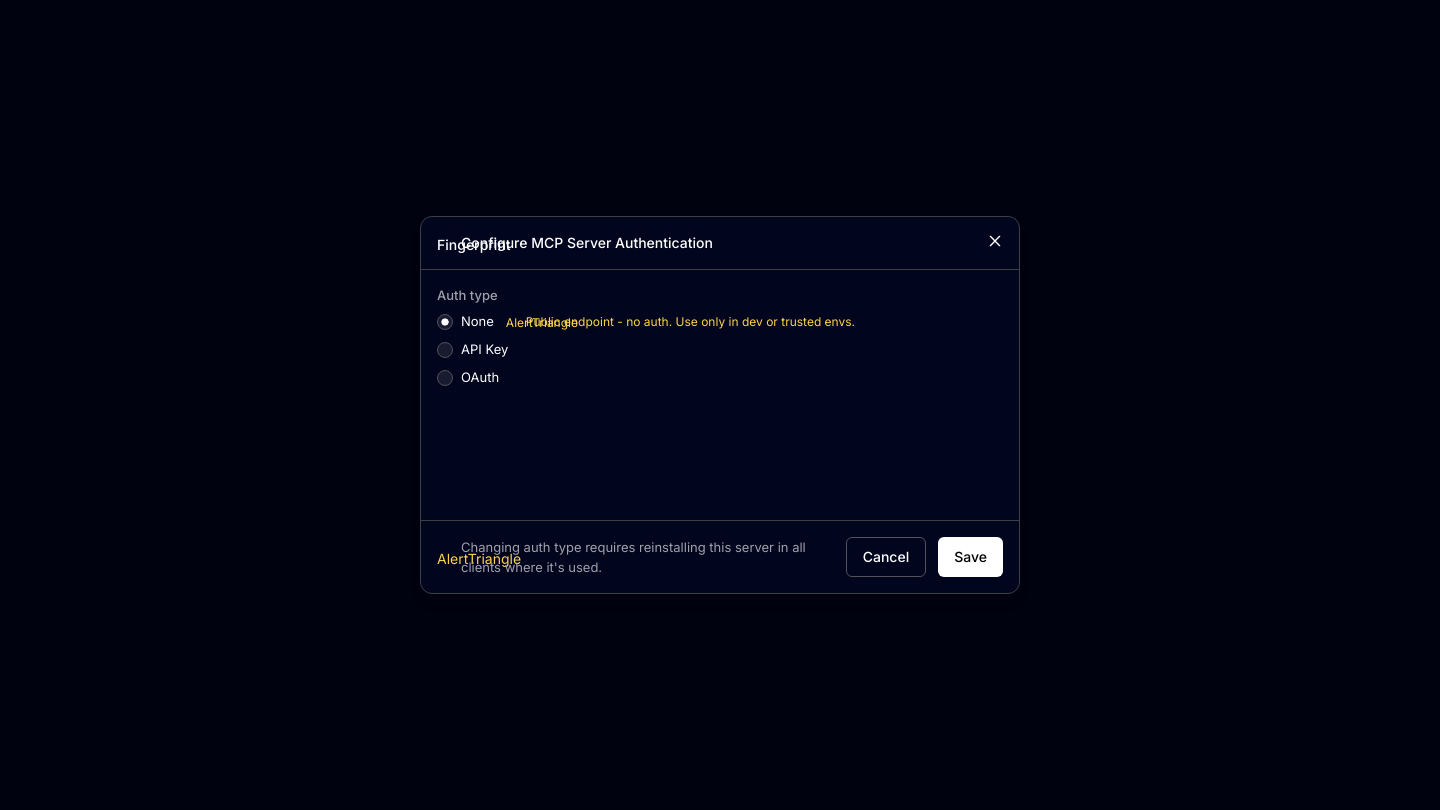
Test: AuthModal OAuth Port Synchronization › should preserve existing Server URL if manually edited after port change
The width and height of the screenshot is (1440, 810).
Select OAuth auth type
Click the radio button named "OAuth" next to "OAuth".
click(445, 378)  # box [437,370,453,386]
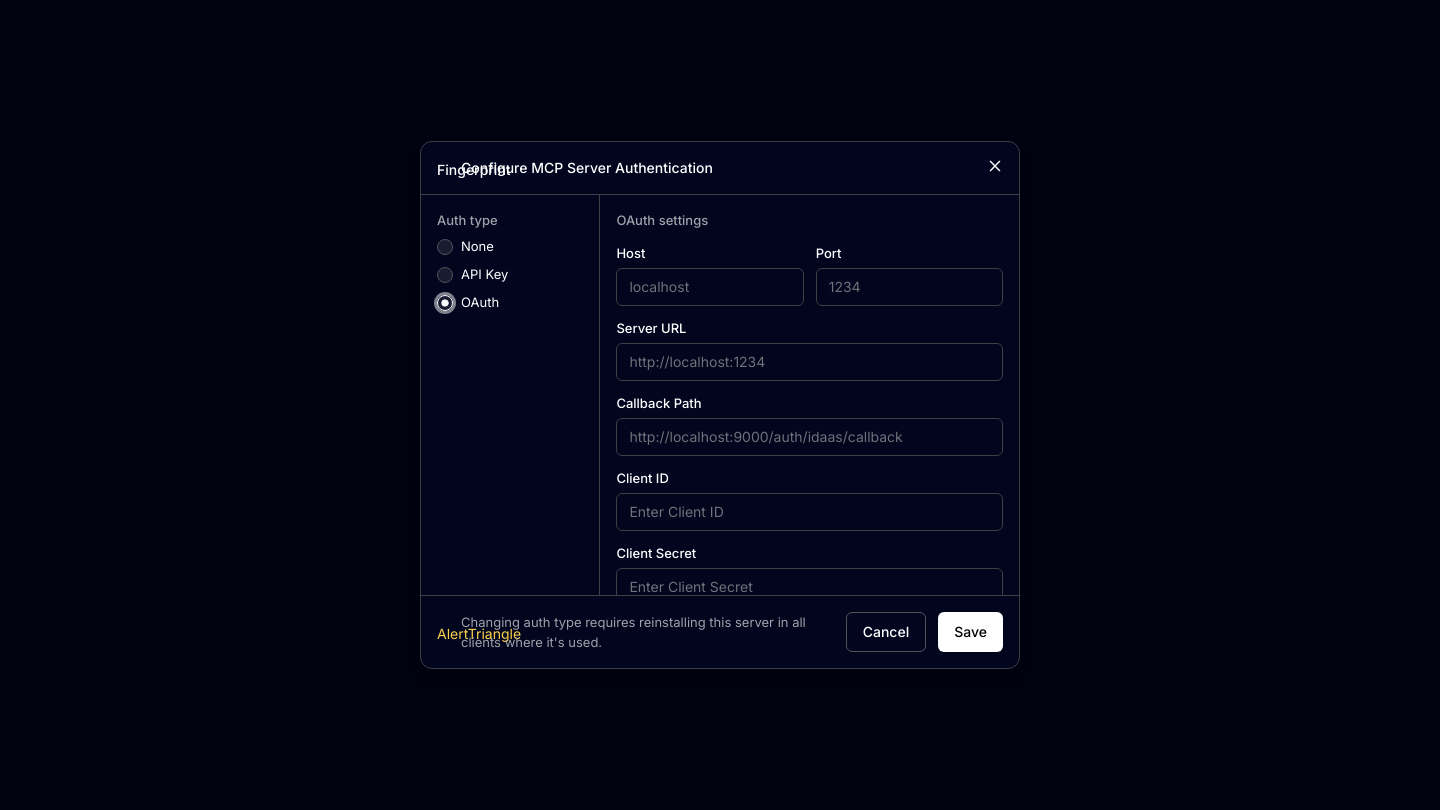
Set port (auto-syncs Server URL)
Type "9001" into the field labelled "Port".
click(909, 286); type("9001")  # box [816,268,1003,306]
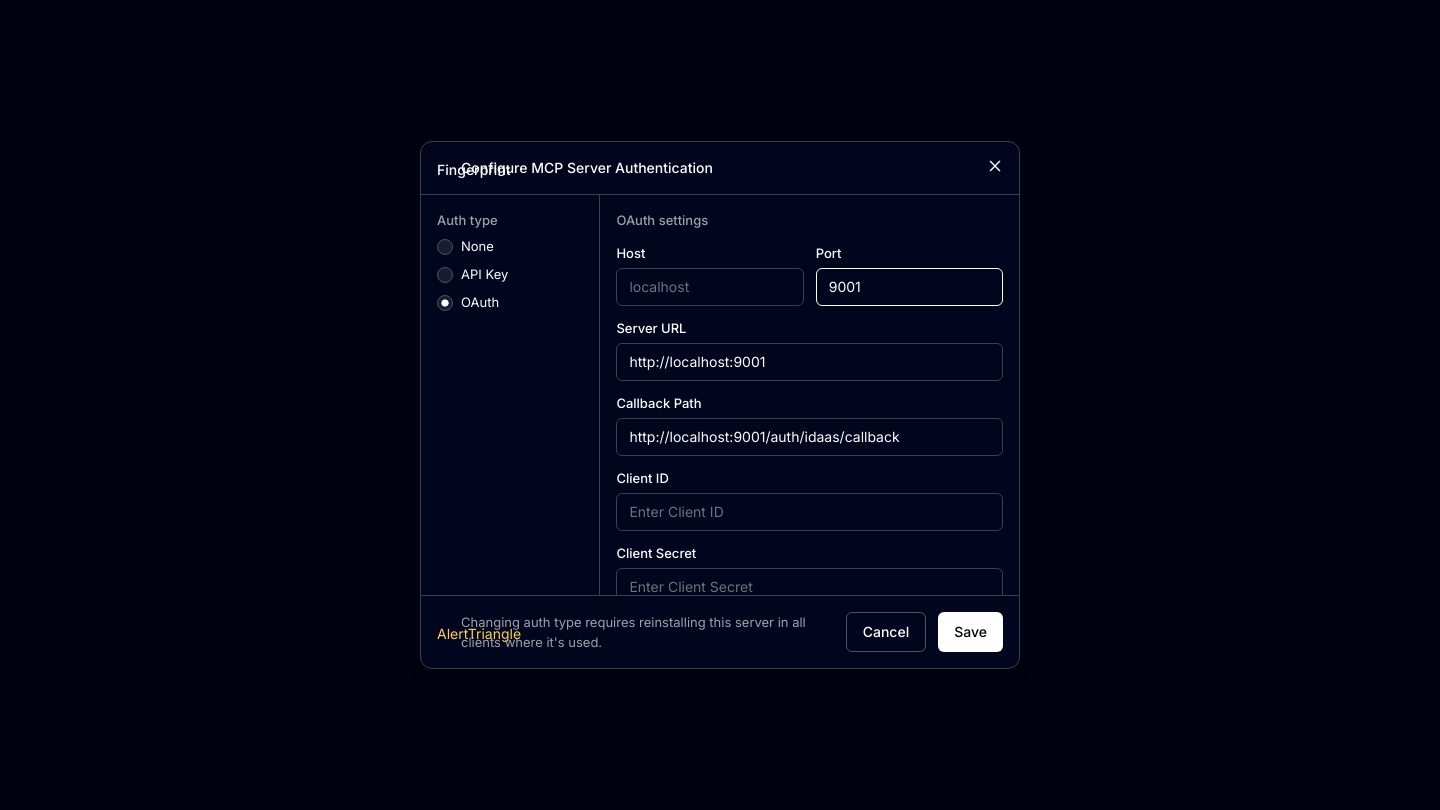
Manually edit Server URL to something different
Replace the text in the field labelled "Server URL" with "http://custom.example.com:9001" at {"x": 810, "y": 362}, box [616,342,1003,380]
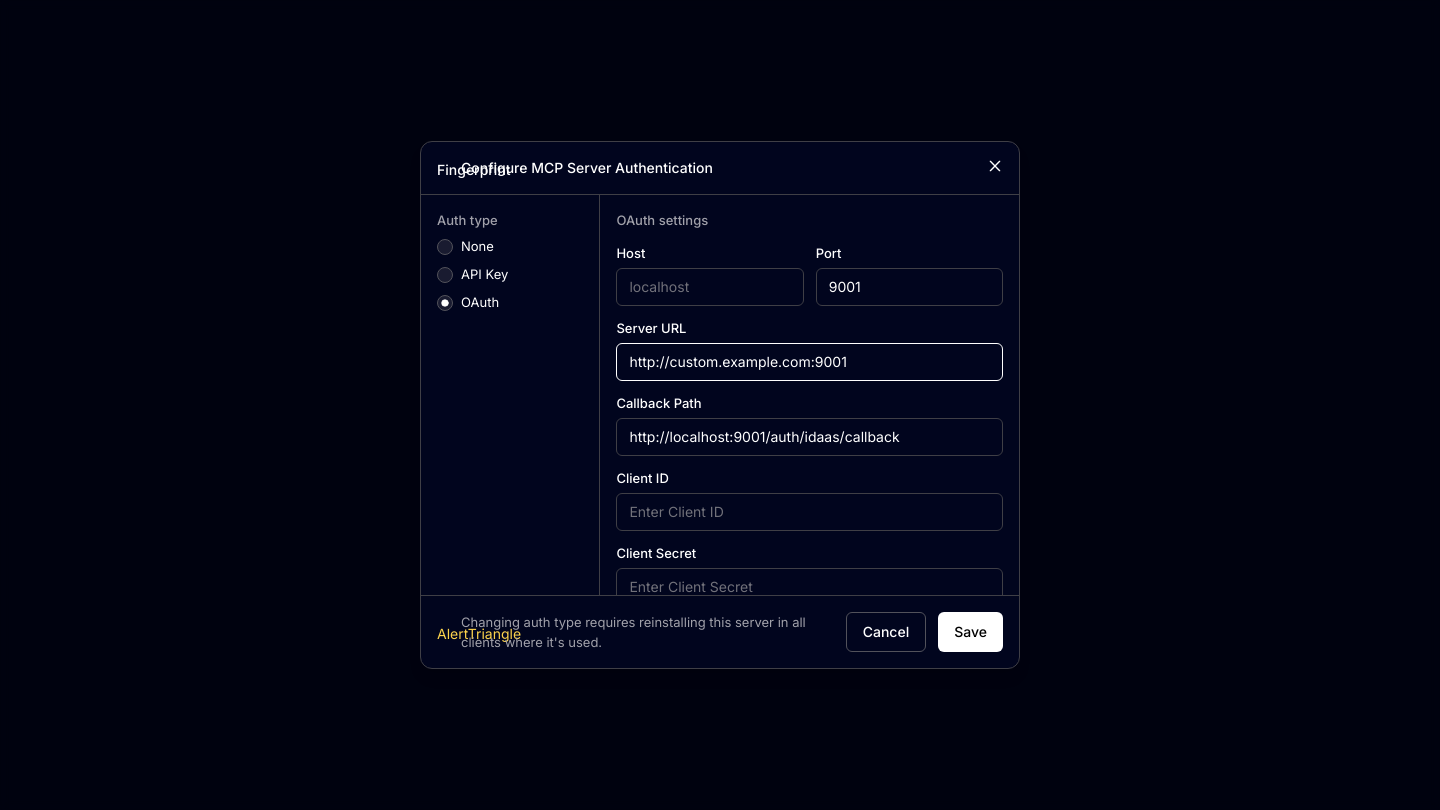
Change port again
Replace the text in the field labelled "Port" with "9002" at {"x": 909, "y": 286}, box [816,268,1003,306]
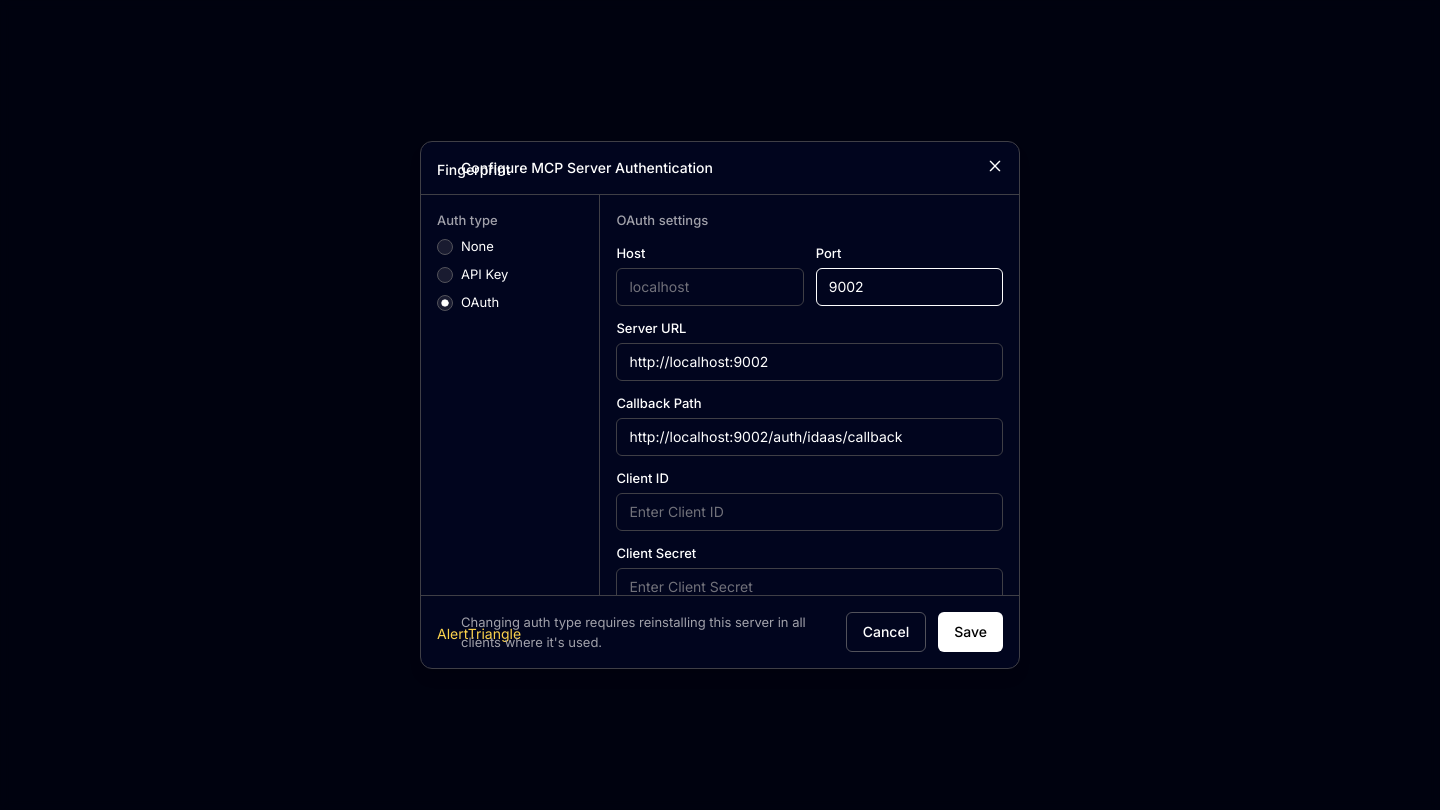
Now the field labelled "Server URL" holds "http://localhost:9002", box [616,342,1003,380]
